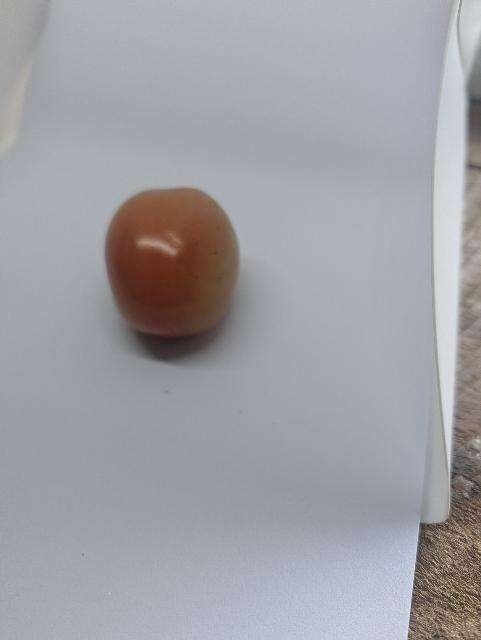red: (85, 173, 252, 349)
